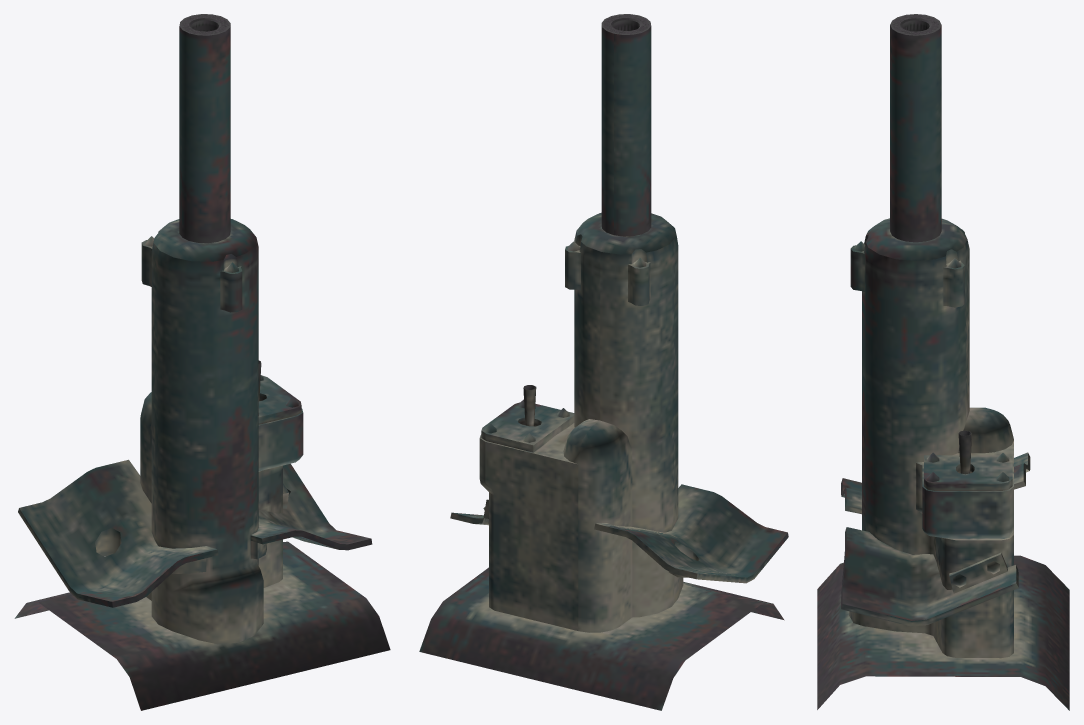
The model's file is Gun_03.glb.
3 views of the same model, side by side, from view 1: azimuth 30°, elevation 25°; view 2: azimuth 150°, elevation 25°; view 3: azimuth 270°, elevation 25° (orthographic). The views are drawn at different scales.
Visible parts, largest first — view 1: set_0_group_0; view 2: set_0_group_0; view 3: set_0_group_0.
Part boxes in pixels (x1,y1,x2,y2): set_0_group_0: [14, 14, 390, 710]; set_0_group_0: [419, 14, 788, 710]; set_0_group_0: [817, 14, 1069, 710].
Bounding box in the file's own units: 0.4035 × 0.9036 × 0.3331.
1 material, 1 textured.
